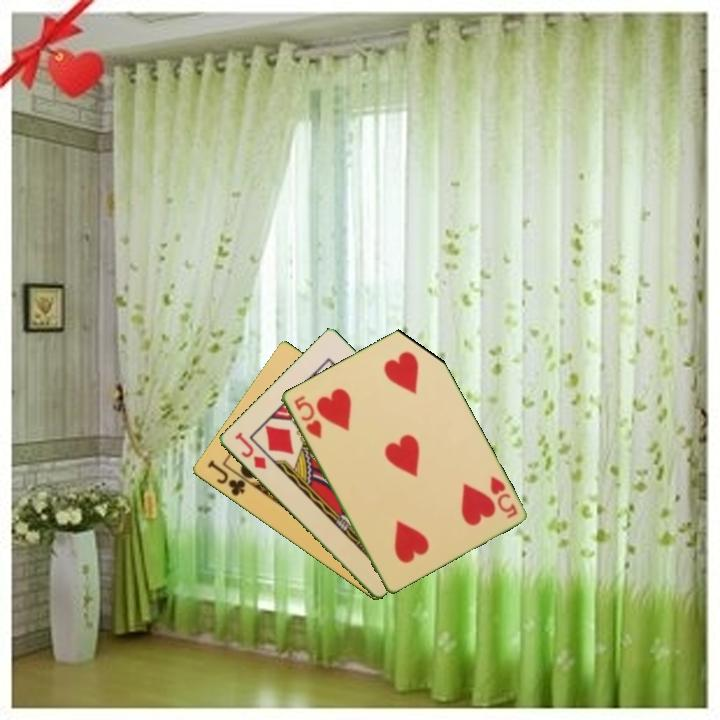5h: (290, 392, 324, 441), (486, 473, 520, 521)
Jc: (203, 456, 248, 499)
Jd: (231, 428, 269, 472)
